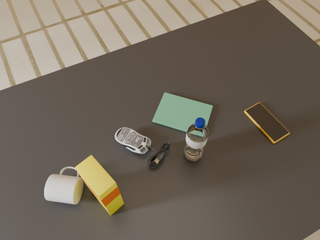book: (153, 93, 213, 132)
bottle: (184, 117, 209, 161)
box: (75, 155, 124, 215)
cup: (44, 167, 83, 204)
mouse: (115, 128, 151, 154)
phone: (244, 103, 290, 143)
